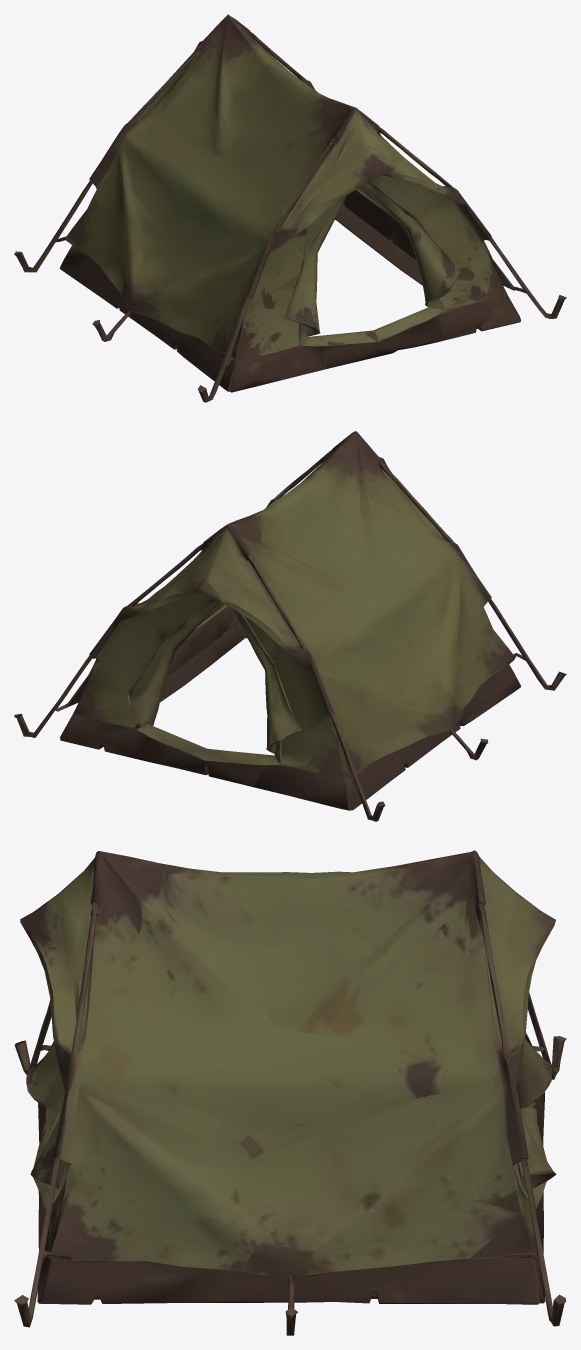
File: tent_camp_aframe_idle.glb
3 views of the same model, one above another, from view 1: azimuth 30°, elevation 25°; view 2: azimuth 150°, elevation 25°; view 3: azimuth 270°, elevation 25° (orthographic). The views are drawn at different scales.
Visible parts, largest first — view 1: tripo_node_1ca91afe-ec49-4934-aa4f-d3cb51483372; view 2: tripo_node_1ca91afe-ec49-4934-aa4f-d3cb51483372; view 3: tripo_node_1ca91afe-ec49-4934-aa4f-d3cb51483372.
Boxes of the visible parts, x1,y1,x2,y2 form: tripo_node_1ca91afe-ec49-4934-aa4f-d3cb51483372: (14,14,566,402); tripo_node_1ca91afe-ec49-4934-aa4f-d3cb51483372: (14,431,566,821); tripo_node_1ca91afe-ec49-4934-aa4f-d3cb51483372: (14,850,566,1335).
Bounding box in the file's own units: 2.45 × 1.4 × 2.
1 material, 1 textured.
